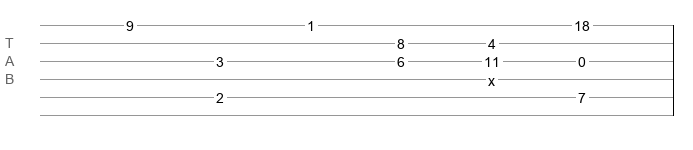0: (578, 54, 586, 64)
1: (307, 18, 315, 28)
11: (484, 54, 500, 64)
18: (574, 18, 590, 28)
2: (216, 90, 224, 100)
3: (216, 54, 224, 64)
4: (488, 36, 496, 46)
6: (397, 54, 405, 64)
7: (578, 90, 586, 100)
8: (397, 36, 405, 46)
9: (126, 18, 134, 28)
x: (488, 73, 495, 81)
